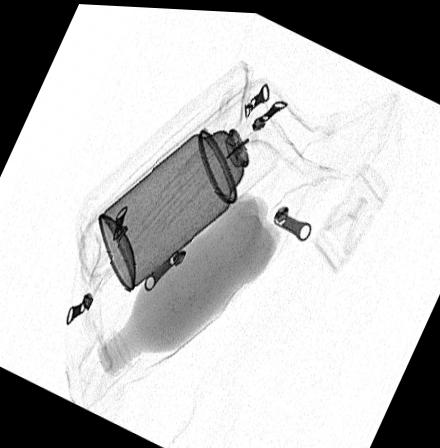Sprayer: (99, 91, 279, 288)
